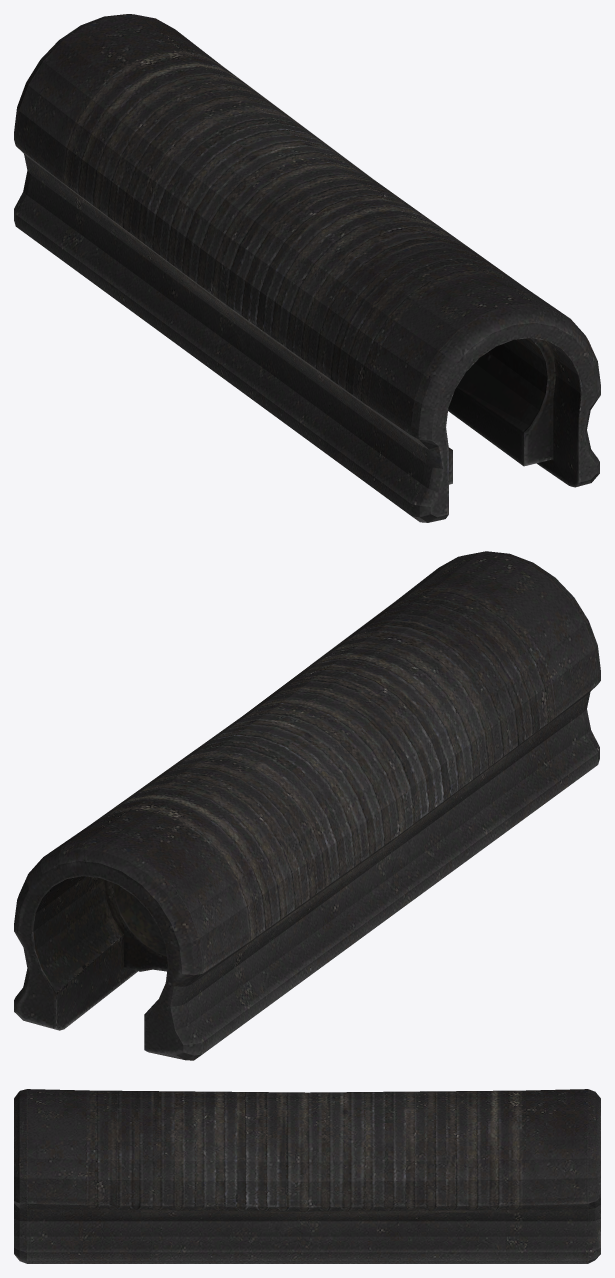
3 renders of one model, top to bottom at view 1: azimuth 30°, elevation 25°; view 2: azimuth 150°, elevation 25°; view 3: azimuth 270°, elevation 25°, orthographic. The views are drawn at different scales.
Visible parts, largest first — view 1: TW_5a788089c5856700142fdd9c_PZ_Import; view 2: TW_5a788089c5856700142fdd9c_PZ_Import; view 3: TW_5a788089c5856700142fdd9c_PZ_Import.
Part boxes in pixels (x1=…): TW_5a788089c5856700142fdd9c_PZ_Import: x1=14, y1=14, x2=600, y2=522; TW_5a788089c5856700142fdd9c_PZ_Import: x1=14, y1=551, x2=600, y2=1060; TW_5a788089c5856700142fdd9c_PZ_Import: x1=14, y1=1089, x2=600, y2=1263.
Size of the model in its own units: 0.0275 by 0.1057 by 0.0275.
1 material, 1 textured.
